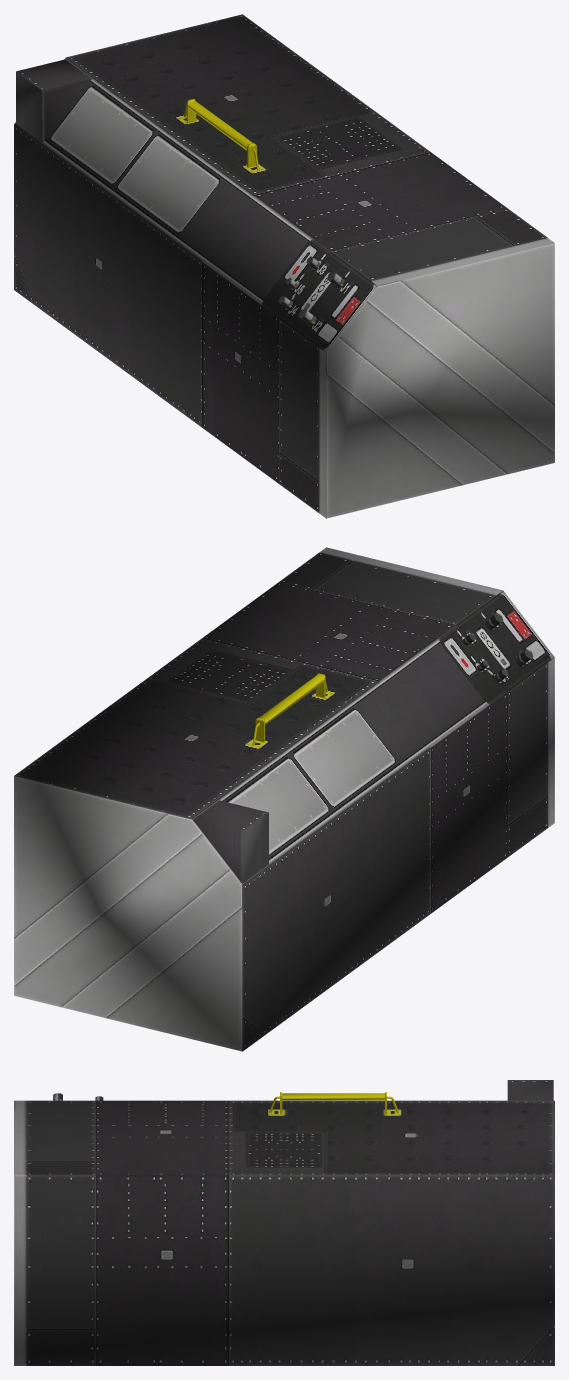
Rendered from Cosmic Origins Spectrograph.glb.
3 views of the same model, one above another, from view 1: azimuth 30°, elevation 25°; view 2: azimuth 150°, elevation 25°; view 3: azimuth 270°, elevation 25° (orthographic). The views are drawn at different scales.
Parts seen in each view (by area): view 1: hubblespac; view 2: hubblespac; view 3: hubblespac.
Boxes of the visible parts, <box> form: hubblespac: <box>14,14,554,518</box>; hubblespac: <box>14,547,554,1051</box>; hubblespac: <box>14,1080,554,1365</box>.
Size of the model in its own units: 67.66 by 67.87 by 159.
Materials: 1 (1 with a texture image).
